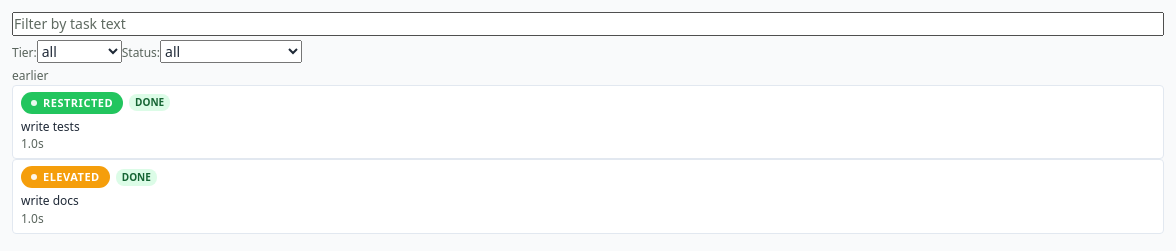
Test: RunHistory › text filter narrows to matching runs
This screenshot has width=1176, height=251.
Type "docs" into the field named "filter runs by task text". click: (588, 24)
box: [12,12,1164,36]
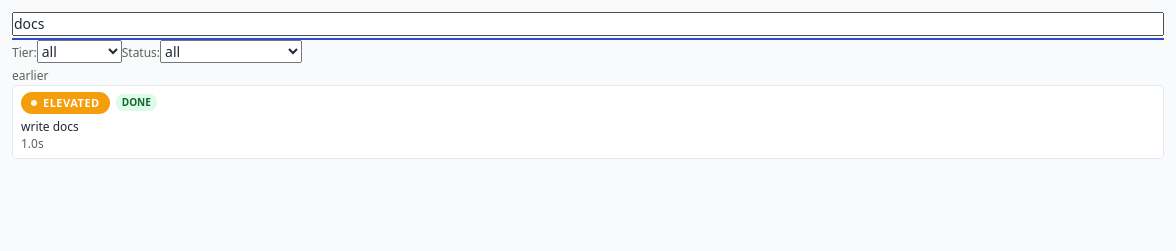
Expected: the text "write docs" is shown, [21,118,79,135]
Now the text "write tests" is gone
